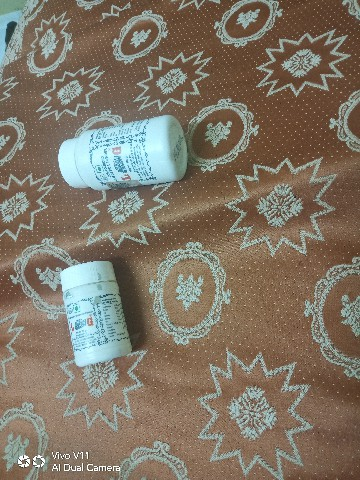lgasafoetidapowder large: (43, 105, 202, 196)
lgasafoetidapowder small: (52, 254, 136, 373)
